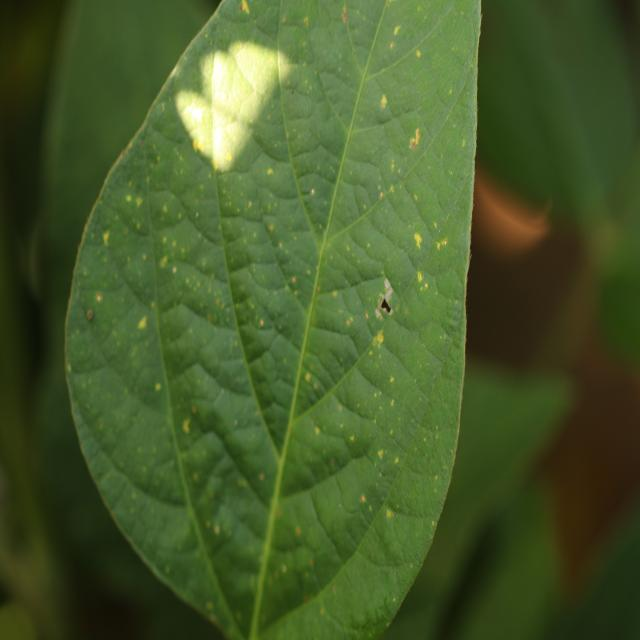Soybean: (61, 0, 485, 640)
downey_mildew: (0, 282, 610, 628), (74, 9, 277, 611), (248, 15, 386, 635), (298, 291, 469, 633), (499, 180, 640, 594), (402, 9, 480, 522), (69, 394, 228, 630), (480, 0, 640, 233), (141, 118, 212, 576), (303, 1, 402, 266), (1, 340, 84, 640), (162, 319, 293, 507), (465, 170, 586, 370), (434, 363, 573, 534), (247, 324, 322, 640), (366, 128, 466, 353), (29, 0, 107, 265), (166, 225, 288, 386), (216, 204, 296, 442), (534, 474, 640, 639), (543, 211, 638, 387), (205, 6, 290, 197), (275, 2, 336, 262), (168, 442, 245, 633), (77, 375, 183, 501), (270, 379, 383, 496), (294, 309, 394, 437), (368, 1, 472, 112), (429, 512, 519, 636), (76, 210, 153, 346), (460, 1, 483, 421), (0, 0, 62, 145), (315, 218, 398, 326), (326, 162, 417, 260), (81, 287, 162, 396), (309, 465, 388, 560), (373, 299, 445, 403), (5, 220, 48, 392), (340, 0, 397, 122), (421, 120, 477, 242), (144, 122, 209, 226), (154, 256, 234, 339), (251, 573, 345, 638), (476, 174, 552, 248), (208, 29, 223, 392), (219, 415, 287, 495), (217, 200, 286, 274), (594, 261, 640, 371), (307, 2, 367, 86), (155, 215, 222, 288), (68, 575, 143, 639), (312, 284, 375, 358), (444, 318, 473, 477), (386, 451, 453, 515), (177, 430, 230, 498), (345, 122, 396, 182), (195, 347, 255, 396), (275, 445, 332, 496), (229, 41, 280, 98), (407, 172, 451, 238), (419, 249, 466, 310), (217, 169, 270, 220), (249, 111, 299, 164), (294, 171, 342, 224), (175, 87, 210, 159), (341, 592, 392, 636), (246, 261, 295, 302), (334, 419, 379, 463), (115, 184, 153, 236), (215, 116, 250, 168), (148, 187, 188, 231), (210, 53, 236, 118), (316, 600, 349, 637), (373, 277, 397, 324), (78, 293, 102, 327), (373, 179, 398, 207), (539, 197, 554, 219), (287, 279, 303, 298), (384, 279, 392, 293), (135, 196, 143, 208), (212, 155, 218, 170), (209, 614, 218, 624), (235, 301, 242, 309)
